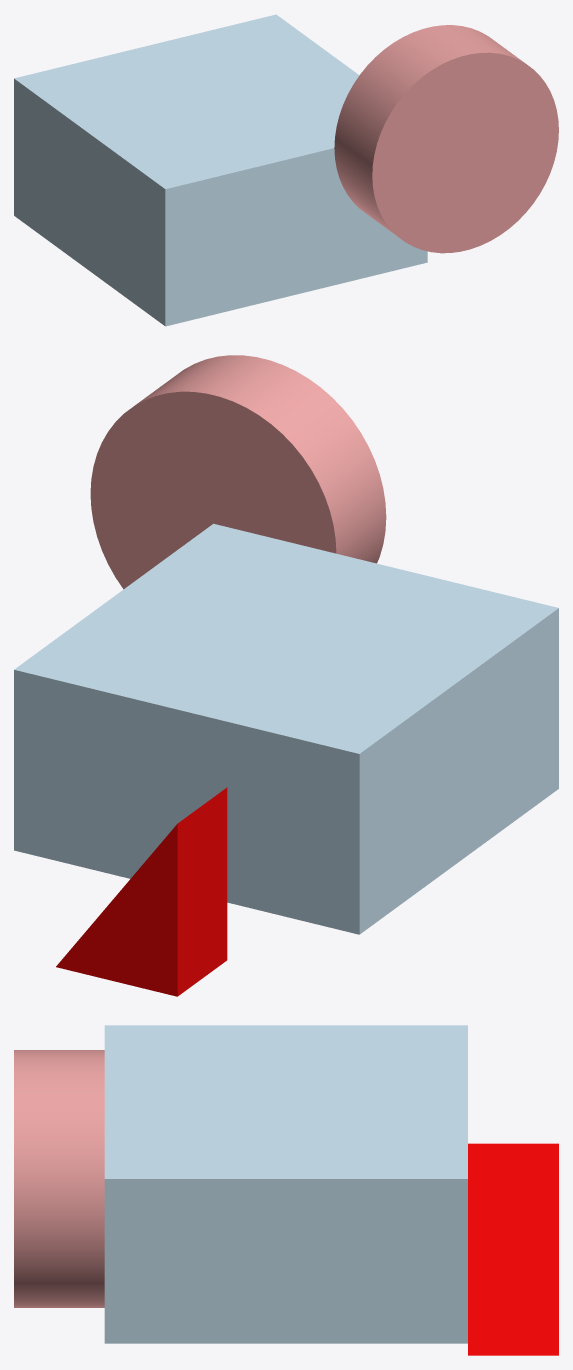
Rendered from SeanWhooley.gltf.
3 renders of one model, top to bottom at view 1: azimuth 30°, elevation 25°; view 2: azimuth 150°, elevation 25°; view 3: azimuth 270°, elevation 25°, orthographic. The views are drawn at different scales.
Parts seen in each view (by area): view 1: mesh4_mesh_4, mesh0_mesh, mesh4_mesh_3, mesh4_mesh, mesh0_mesh_1, mesh0_mesh_2; view 2: mesh4_mesh_4, mesh4_mesh_1, mesh4_mesh, mesh0_mesh_3, mesh0_mesh_1, mesh10_mesh_4, mesh10_mesh_1, mesh0_mesh_2; view 3: mesh4_mesh_2, mesh4_mesh_4, mesh10_mesh_3, mesh0_mesh_1, mesh0_mesh_2.
Part boxes in pixels (x1=…): mesh4_mesh_4: x1=14, y1=14, x2=359, y2=189; mesh0_mesh: x1=372, y1=52, x2=558, y2=253; mesh4_mesh_3: x1=165, y1=148, x2=427, y2=326; mesh4_mesh: x1=14, y1=78, x2=165, y2=325; mesh0_mesh_1: x1=334, y1=25, x2=524, y2=175; mesh0_mesh_2: x1=334, y1=148, x2=397, y2=236; mesh4_mesh_4: x1=14, y1=523, x2=558, y2=753; mesh4_mesh_1: x1=14, y1=670, x2=359, y2=934; mesh4_mesh: x1=359, y1=608, x2=558, y2=934; mesh0_mesh_3: x1=90, y1=391, x2=336, y2=589; mesh0_mesh_1: x1=135, y1=355, x2=386, y2=553; mesh10_mesh_4: x1=56, y1=824, x2=177, y2=996; mesh10_mesh_1: x1=177, y1=787, x2=227, y2=996; mesh0_mesh_2: x1=337, y1=517, x2=386, y2=563; mesh4_mesh_2: x1=104, y1=1179, x2=467, y2=1343; mesh4_mesh_4: x1=104, y1=1025, x2=467, y2=1178; mesh10_mesh_3: x1=468, y1=1143, x2=558, y2=1355; mesh0_mesh_1: x1=14, y1=1050, x2=104, y2=1233; mesh0_mesh_2: x1=14, y1=1233, x2=104, y2=1307.
Size of the model in its own units: 0.1378 by 0.1031 by 0.1524.
